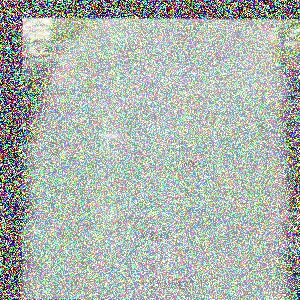Bacterial_Leaf_Blight: (136, 271, 192, 295), (170, 148, 214, 176), (94, 122, 131, 147), (135, 223, 172, 247), (42, 97, 70, 122)
